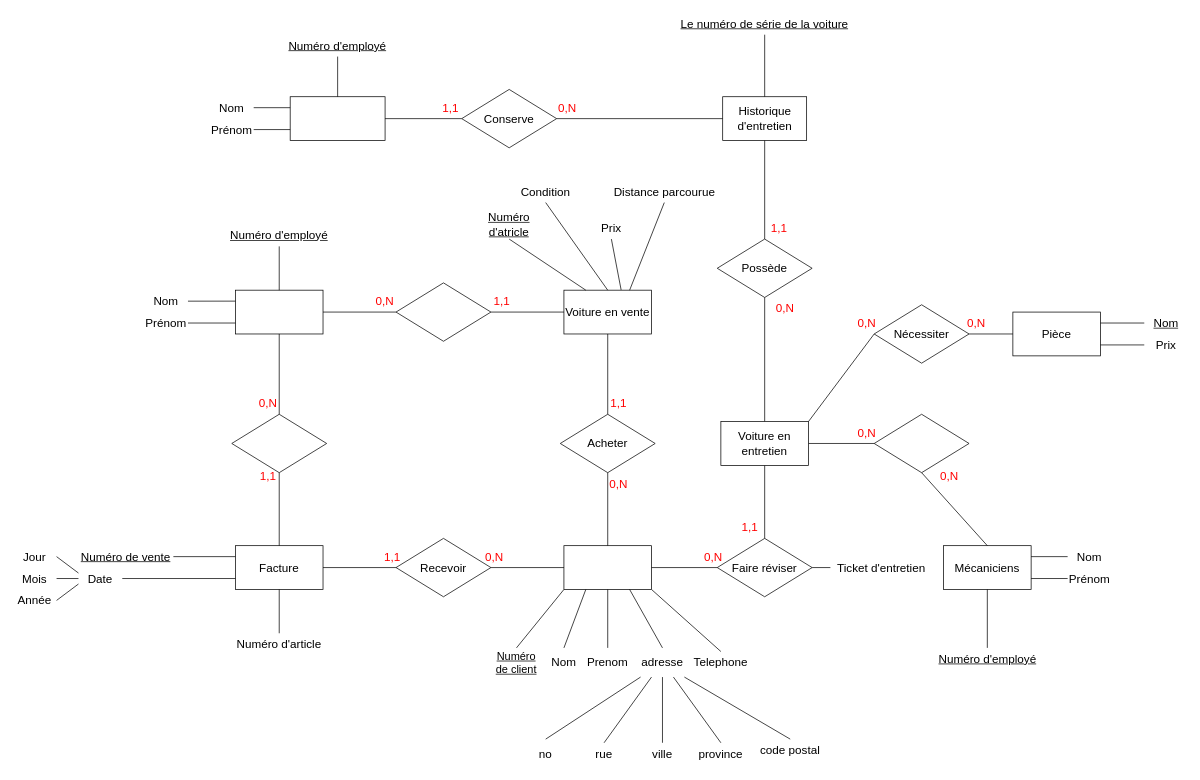
This 1200x780 diagram has some shape labels left out. The box of each missing label's shape, as (x1, y1, x2, y2) in pixels:
Client: (563, 545, 652, 589)
Concessionnaire: (289, 96, 385, 141)
Réparer: (873, 414, 969, 473)
Vendeur: (235, 289, 323, 334)
Vendre: (395, 282, 491, 341)
Établir: (231, 414, 327, 473)
